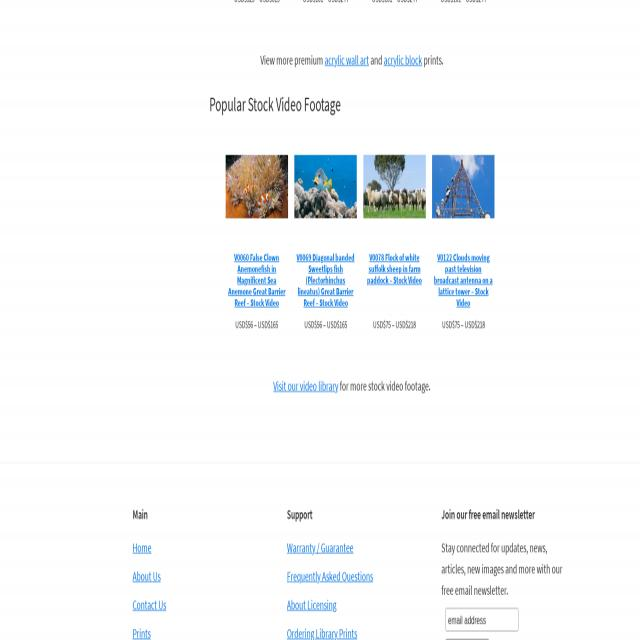button: (432, 154, 495, 220), (363, 155, 426, 220), (226, 155, 288, 220), (295, 156, 357, 218)
field: (445, 608, 519, 631)
